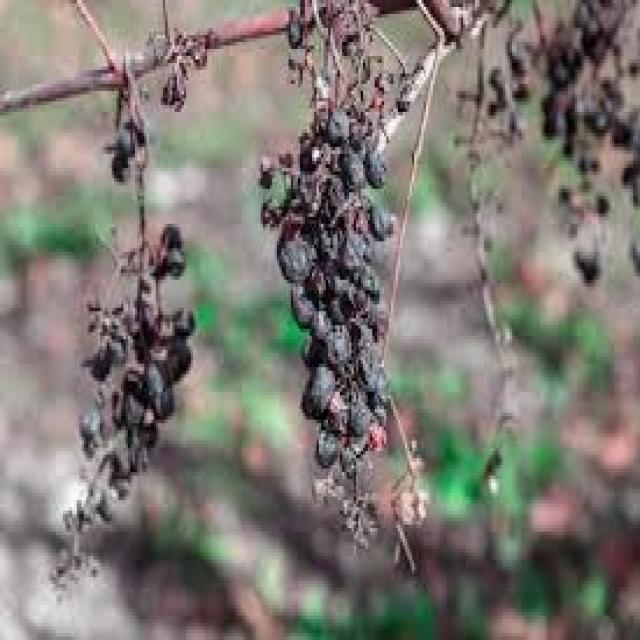Grapes: (336, 246, 380, 312), (356, 344, 383, 437), (290, 295, 335, 337), (355, 141, 391, 185), (276, 239, 313, 280), (326, 329, 353, 370), (311, 372, 336, 416), (328, 110, 354, 148), (340, 156, 365, 192), (369, 211, 395, 245)
